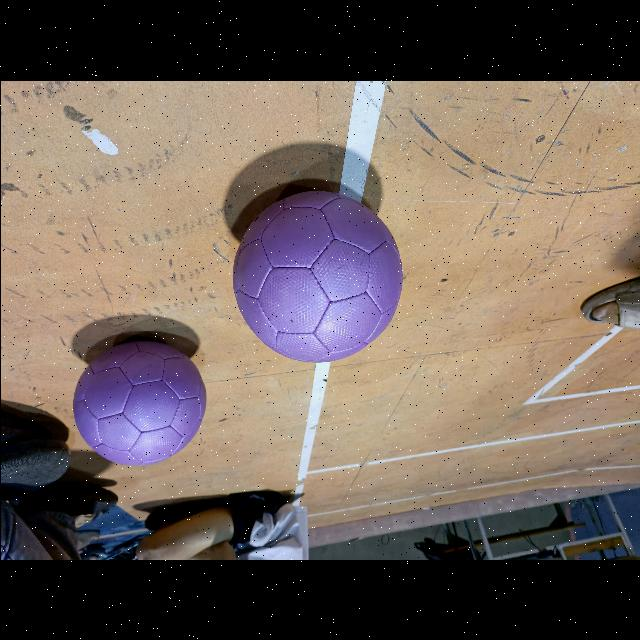P: (232, 190, 402, 362), (73, 341, 205, 465)
